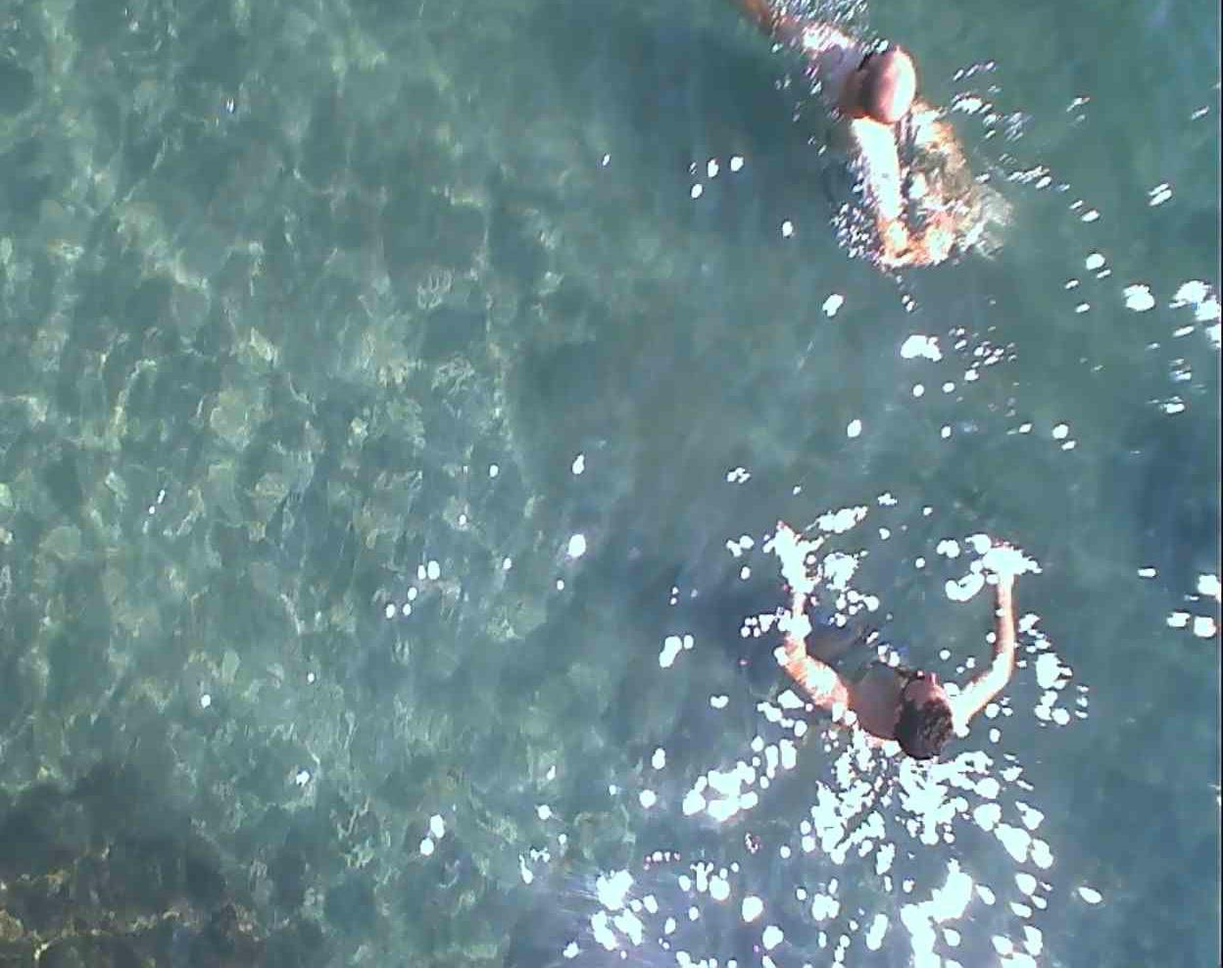swimmer: (775, 494, 1016, 780), (764, 0, 979, 232)
